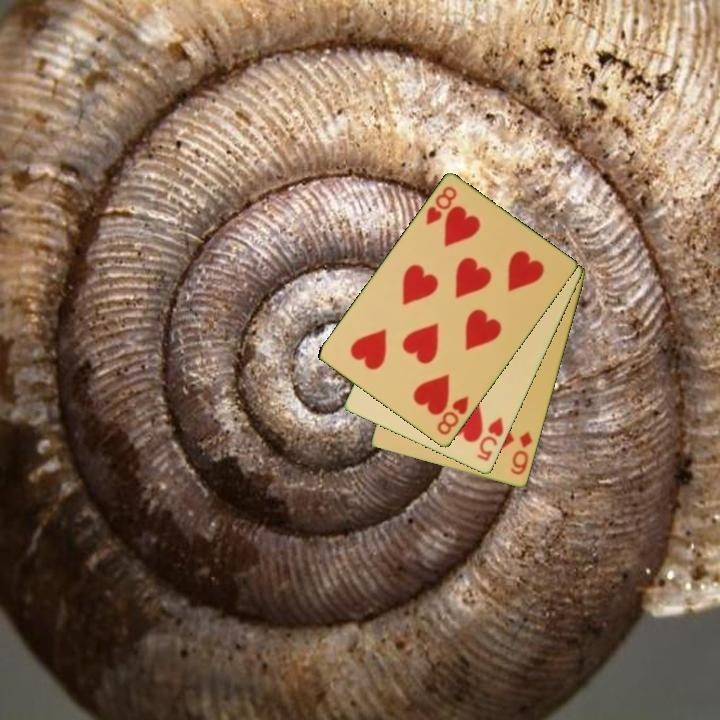5h: (474, 414, 507, 465)
6d: (507, 429, 536, 478)
8h: (433, 393, 472, 438), (422, 183, 460, 229)
